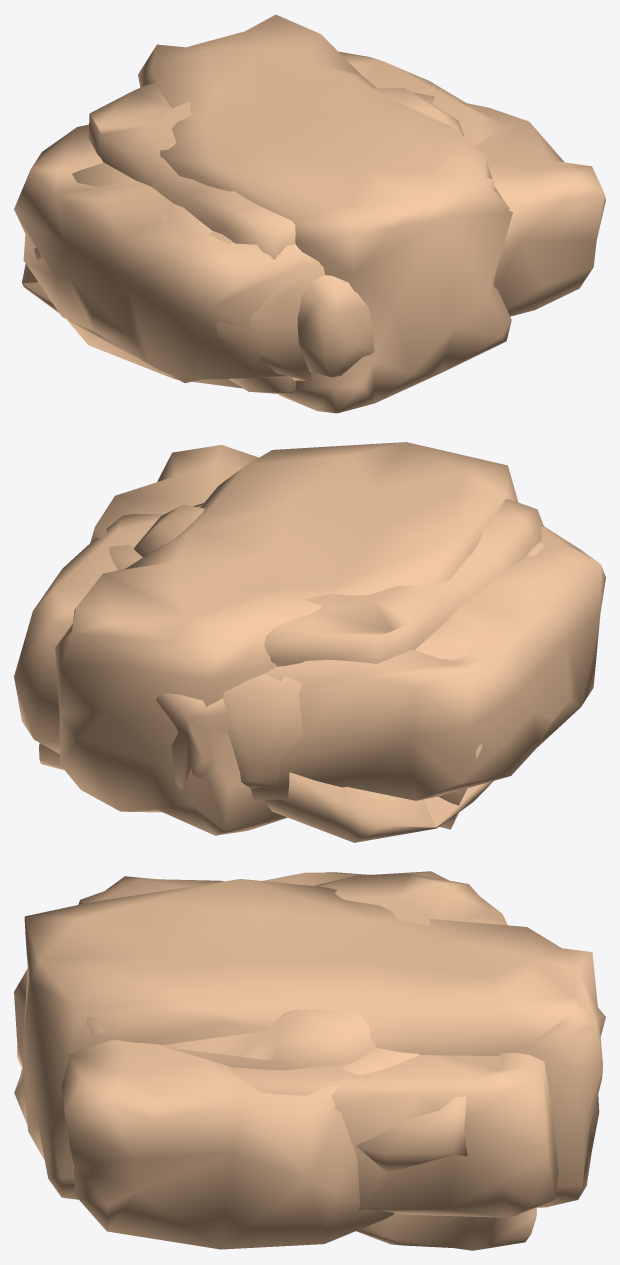
The model's file is stone-2-1.gltf.
3 views of the same model, one above another, from view 1: azimuth 30°, elevation 25°; view 2: azimuth 150°, elevation 25°; view 3: azimuth 270°, elevation 25° (orthographic). The views are drawn at different scales.
Parts seen in each view (by area): view 1: stone_3, stone_2, stone_5, stone_8, stone_1, stone_4, stone_7; view 2: stone_3, stone_2, stone_8, stone_5, stone_7, stone_1; view 3: stone_3, stone_2, stone_8, stone_5, stone_7, stone_4, stone_1.
Boxes of the visible parts, left/top/right/bottom form: stone_3: left=138, top=14, right=512, bottom=413; stone_2: left=14, top=92, right=605, bottom=379; stone_5: left=88, top=82, right=494, bottom=394; stone_8: left=72, top=51, right=498, bottom=380; stone_1: left=297, top=275, right=374, bottom=377; stone_4: left=34, top=248, right=242, bottom=388; stone_7: left=22, top=264, right=200, bottom=383; stone_3: left=55, top=442, right=517, bottom=835; stone_2: left=90, top=445, right=605, bottom=800; stone_8: left=14, top=514, right=543, bottom=788; stone_5: left=134, top=499, right=543, bottom=666; stone_7: left=39, top=743, right=493, bottom=842; stone_1: left=156, top=693, right=229, bottom=788; stone_3: left=14, top=879, right=602, bottom=1207; stone_2: left=61, top=871, right=507, bottom=1249; stone_8: left=228, top=1053, right=558, bottom=1217; stone_5: left=78, top=873, right=504, bottom=1070; stone_7: left=356, top=1207, right=536, bottom=1250; stone_4: left=356, top=1096, right=467, bottom=1172; stone_1: left=14, top=969, right=605, bottom=1105.
Bounding box in the file's own units: 6.95 × 3.32 × 7.18.
